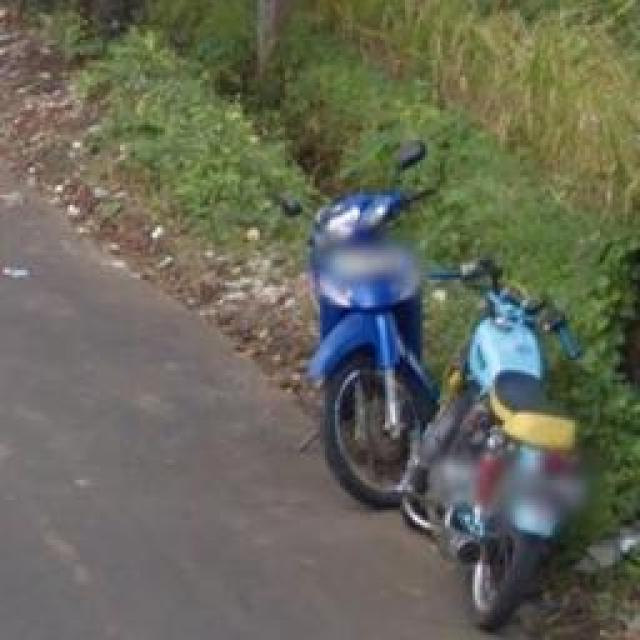motorcycle: (400, 258, 588, 630), (308, 148, 440, 508)
